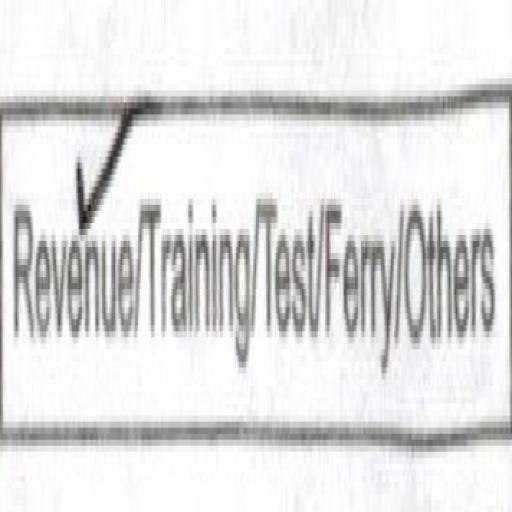check: (7, 33, 138, 495)
